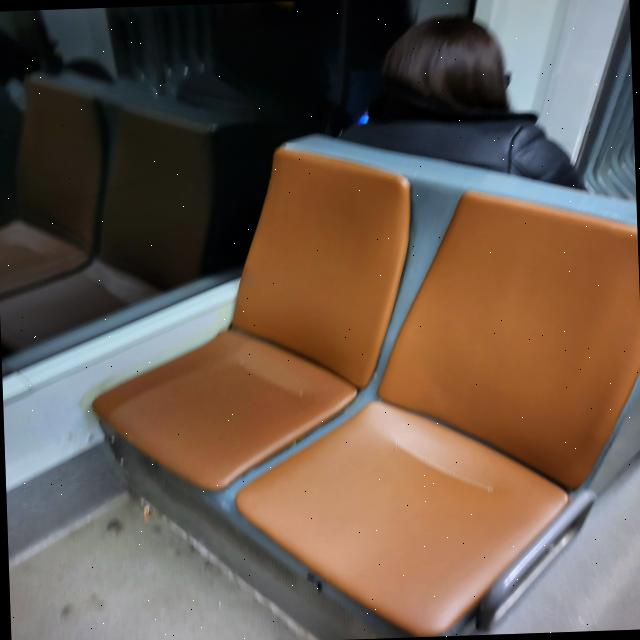empty-seat-frontal: (224, 185, 640, 640), (58, 142, 416, 494)
